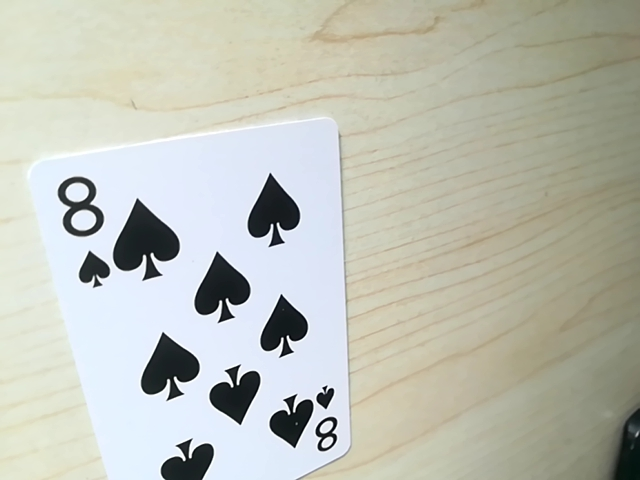ht 8: (42, 166, 117, 289), (305, 394, 344, 464)
